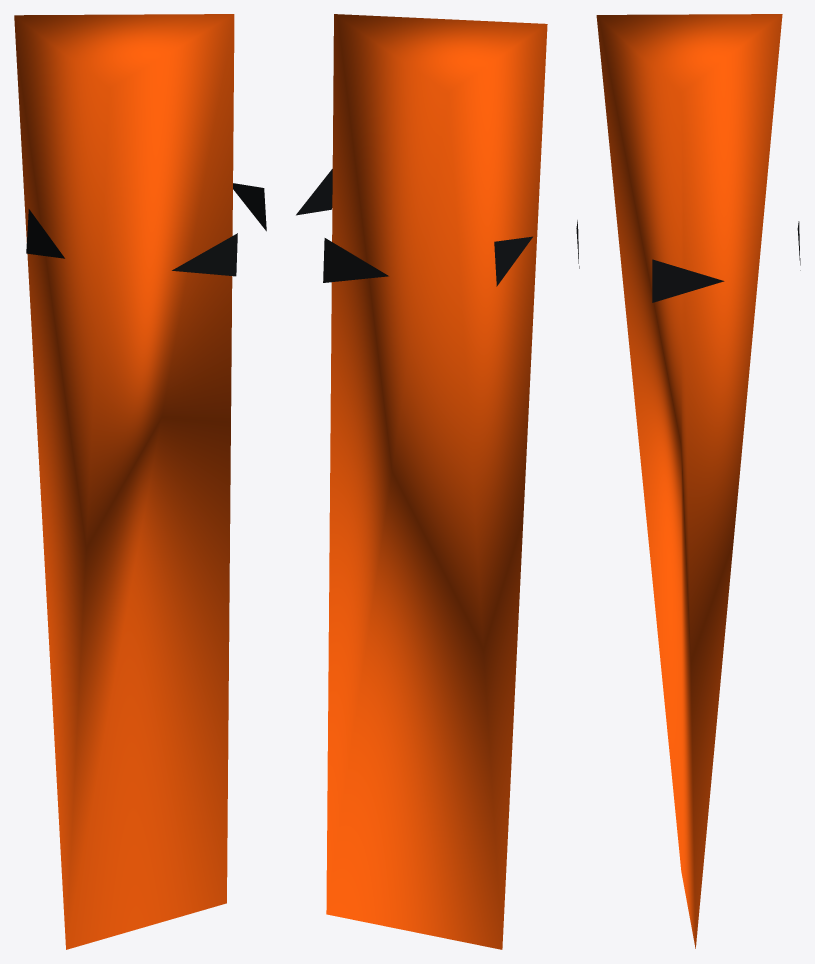
The model's file is pylon_nfl_lod2.glb.
The picture shows the model from 3 angles, left to right: view 1: azimuth 30°, elevation 25°; view 2: azimuth 150°, elevation 25°; view 3: azimuth 270°, elevation 25°; orthographic projection. The views are drawn at different scales.
Parts seen in each view (by area): view 1: pylon_nfl__prop_orange, pylon_nfl__prop_black; view 2: pylon_nfl__prop_orange, pylon_nfl__prop_black; view 3: pylon_nfl__prop_orange, pylon_nfl__prop_black.
Part boxes in pixels (bbox=[...]): pylon_nfl__prop_orange: bbox=[14, 14, 234, 949]; pylon_nfl__prop_black: bbox=[26, 183, 266, 276]; pylon_nfl__prop_orange: bbox=[326, 14, 547, 949]; pylon_nfl__prop_black: bbox=[296, 169, 532, 286]; pylon_nfl__prop_orange: bbox=[596, 14, 782, 948]; pylon_nfl__prop_black: bbox=[576, 220, 800, 302].
Bounding box in the file's own units: 0.1049 × 0.4432 × 0.1049.
